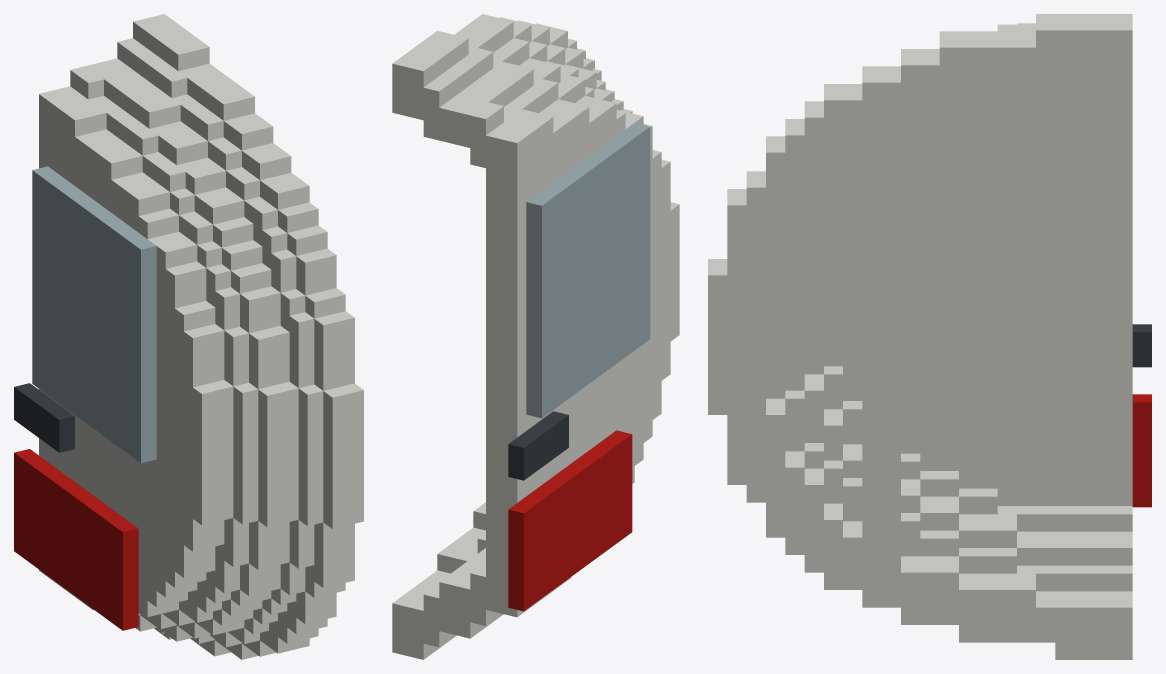
The model's file is air_ambulance_clamshell_door.glb.
The picture shows the model from 3 angles, left to right: view 1: azimuth 30°, elevation 25°; view 2: azimuth 150°, elevation 25°; view 3: azimuth 270°, elevation 25°; orthographic projection. The views are drawn at different scales.
Visible parts, largest first — view 1: body:compound; view 2: body:compound; view 3: body:compound.
Part boxes in pixels (box(x1,y1,x2,y2)): body:compound: box(14, 14, 363, 659); body:compound: box(392, 14, 679, 659); body:compound: box(708, 14, 1151, 659).
Size of the model in its own units: 0.2812 by 1.12 by 0.7188.
